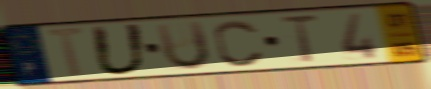4: (339, 11, 381, 61)
C: (212, 18, 267, 69)
T: (42, 25, 92, 80), (276, 12, 322, 65)
U: (88, 22, 150, 78), (152, 19, 213, 73)
